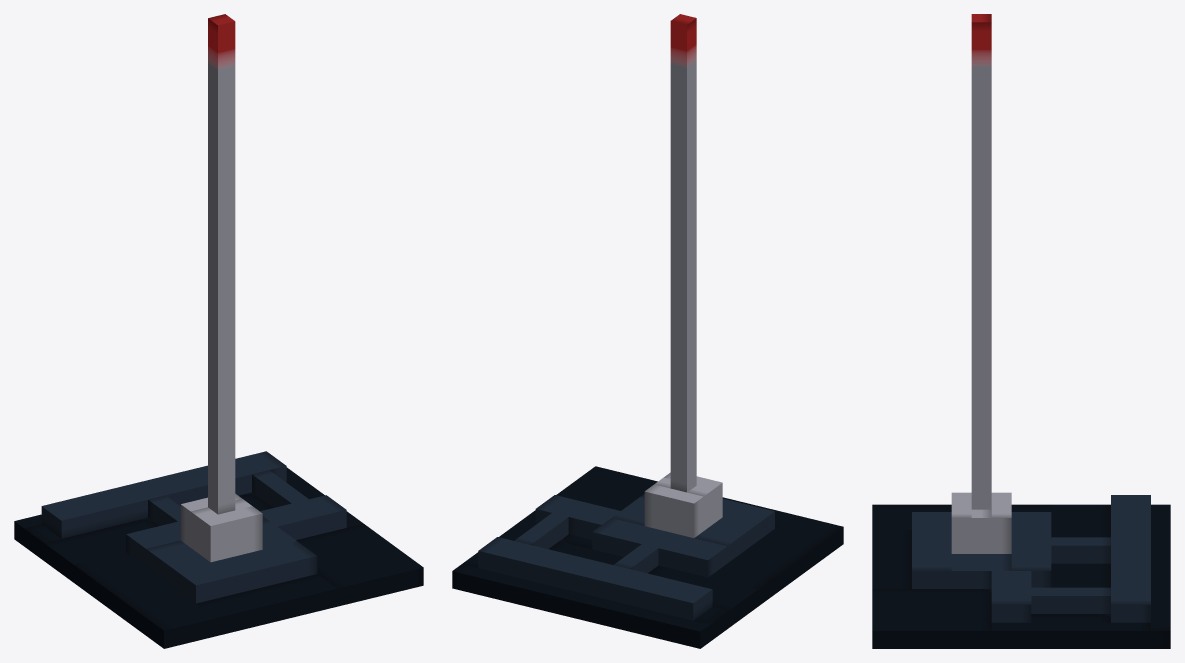
The model's file is antena_ostrzeganie.dae.
3 views of the same model, side by side, from view 1: azimuth 30°, elevation 25°; view 2: azimuth 150°, elevation 25°; view 3: azimuth 270°, elevation 25° (orthographic). The views are drawn at different scales.
Parts seen in each view (by area): view 1: Content; view 2: Content; view 3: Content.
Boxes of the visible parts, box(x1,y1,x2,y2) form: Content: box(14, 14, 423, 648); Content: box(452, 14, 843, 648); Content: box(872, 14, 1170, 648).
Size of the model in its own units: 15 by 31 by 15.
1 material, 1 textured.
